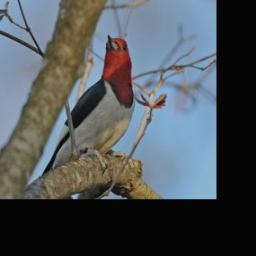Woodpecker: (35, 26, 140, 193)
